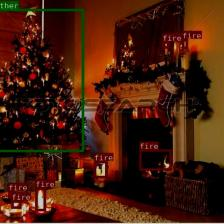fire: (139, 150, 171, 170), (34, 187, 46, 211), (94, 160, 108, 178), (11, 200, 21, 208), (7, 190, 16, 198), (182, 39, 188, 49), (162, 41, 168, 48)
